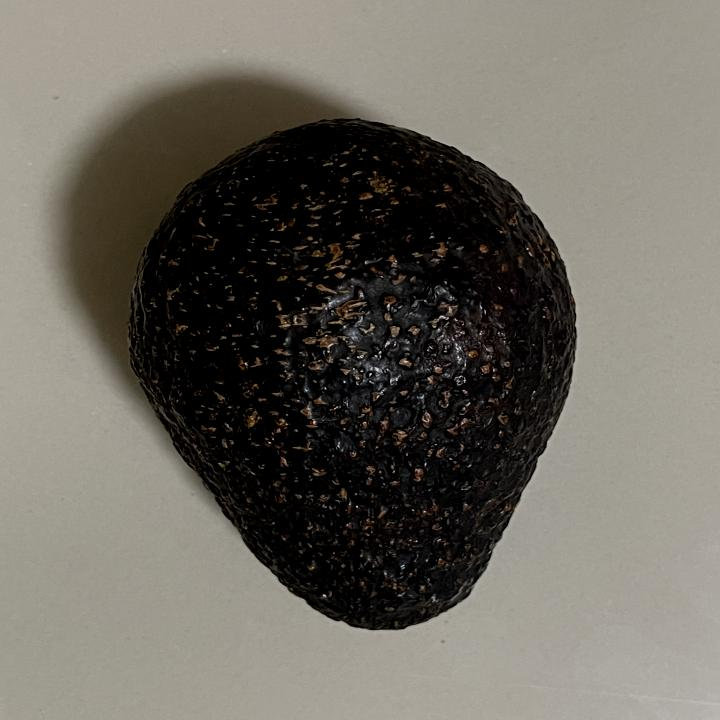Level3: (116, 110, 590, 640)
